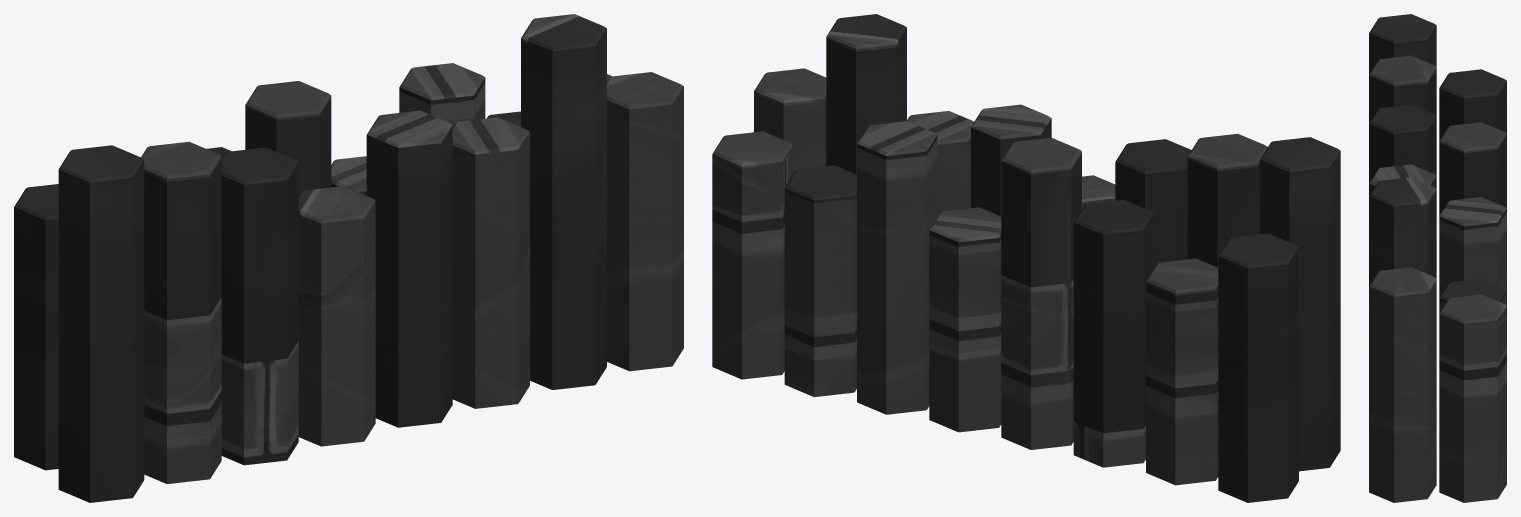
The model's file is causeway.fbx.
3 renders of one model, left to right at view 1: azimuth 30°, elevation 25°; view 2: azimuth 150°, elevation 25°; view 3: azimuth 270°, elevation 25°, orthographic. The views are drawn at different scales.
Parts seen in each view (by area): view 1: Causeway2, Causeway3, Causeway4, Causeway1; view 2: Causeway2, Causeway3, Causeway1, Causeway4; view 3: Causeway3, Causeway2, Causeway1, Causeway4.
Part boxes in pixels (bbox=[...]): Causeway2: bbox=[14, 141, 221, 502]; Causeway3: bbox=[487, 14, 683, 389]; Causeway4: bbox=[331, 63, 529, 427]; Causeway1: bbox=[207, 81, 375, 465]; Causeway2: bbox=[1146, 133, 1340, 502]; Causeway3: bbox=[712, 14, 906, 397]; Causeway1: bbox=[1001, 137, 1191, 467]; Causeway4: bbox=[857, 104, 1051, 432]; Causeway3: bbox=[1369, 177, 1506, 502]; Causeway2: bbox=[1369, 14, 1506, 140]; Causeway1: bbox=[1369, 104, 1506, 215]; Causeway4: bbox=[1369, 164, 1506, 296].
Size of the model in its own units: 1593 by 846 by 393.
